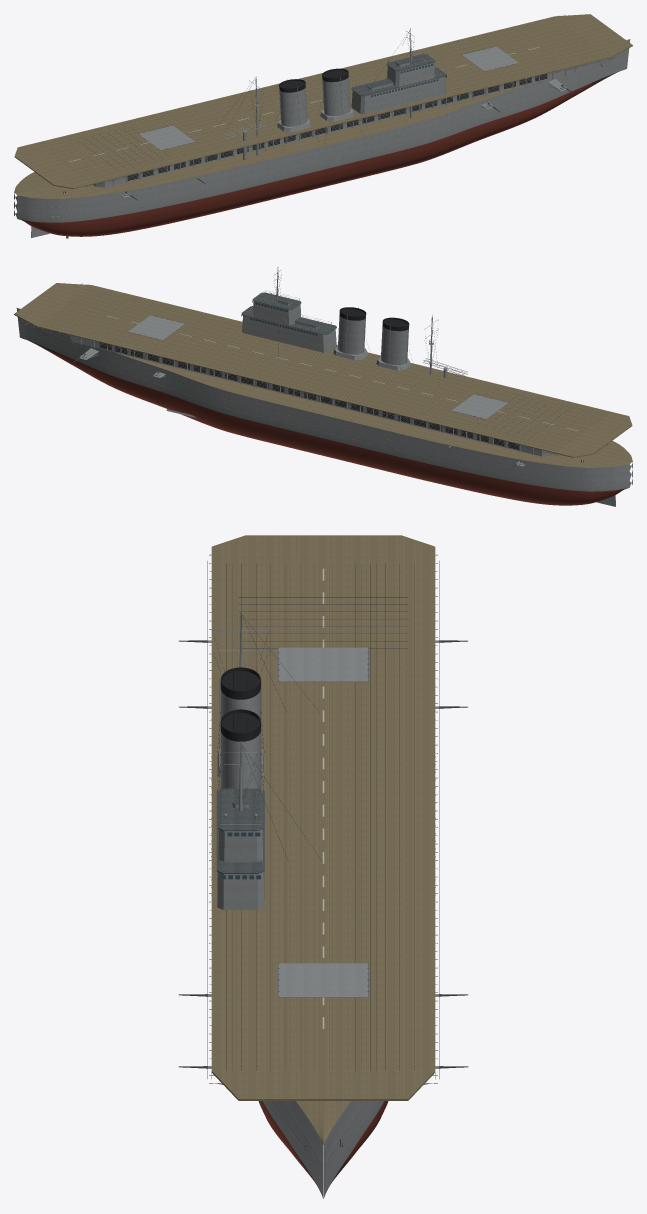
File: eagle.glb
3 views of the same model, one above another, from view 1: azimuth 30°, elevation 25°; view 2: azimuth 150°, elevation 25°; view 3: azimuth 270°, elevation 25° (orthographic). The views are drawn at different scales.
Parts seen in each view (by area): view 1: Eagle; view 2: Eagle; view 3: Eagle.
Boxes of the visible parts, x1,y1,x2,y2 form: Eagle: [14, 14, 632, 238]; Eagle: [14, 267, 632, 506]; Eagle: [178, 535, 468, 1198].
Bounding box in the file's own units: 203 × 44.01 × 41.5.
9 materials, 8 textured.
